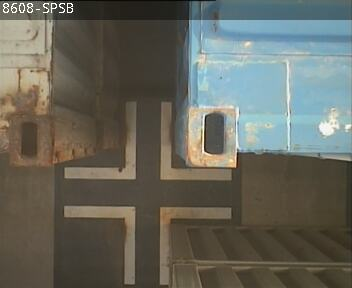groundmarker_1: (62, 206, 231, 284), (63, 103, 232, 180)
